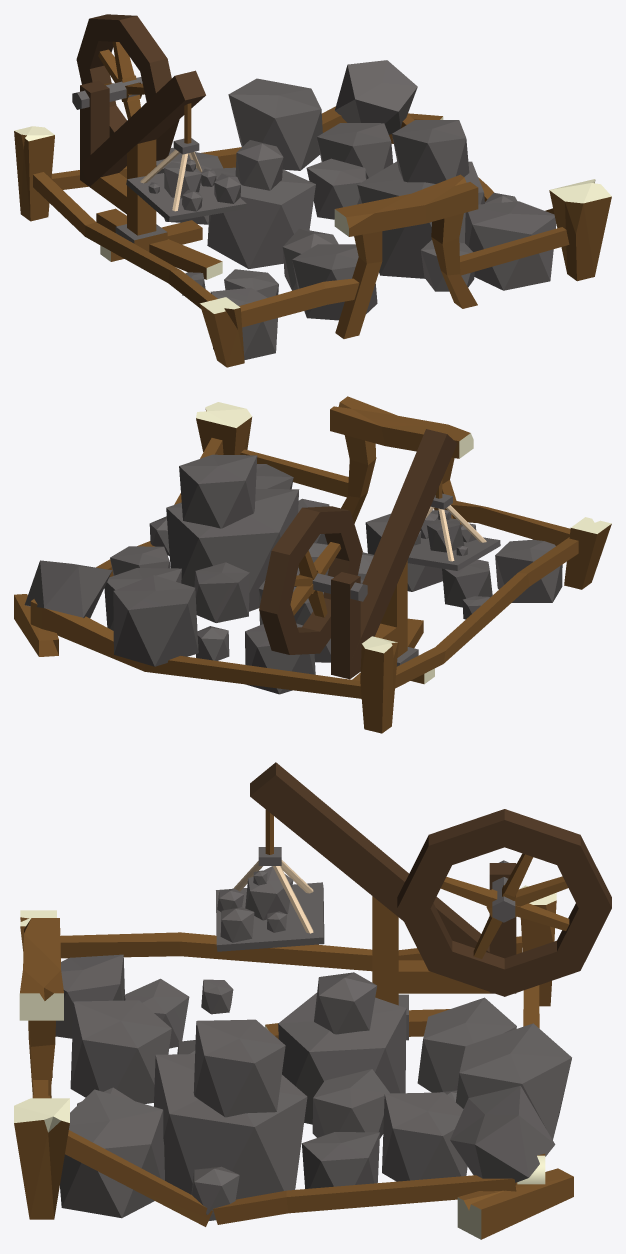
File: Stone_storage_5.fbx
3 renders of one model, top to bottom at view 1: azimuth 30°, elevation 25°; view 2: azimuth 150°, elevation 25°; view 3: azimuth 270°, elevation 25°, orthographic. The views are drawn at different scales.
Parts seen in each view (by area): view 1: Stone_1.049; view 2: Stone_1.049; view 3: Stone_1.049.
Part boxes in pixels (left/top/right/bottom): Stone_1.049: left=14, top=14, right=611, bottom=367; Stone_1.049: left=14, top=396, right=611, bottom=733; Stone_1.049: left=14, top=762, right=611, bottom=1239.
Size of the model in its own units: 6 by 6 by 3.15.
